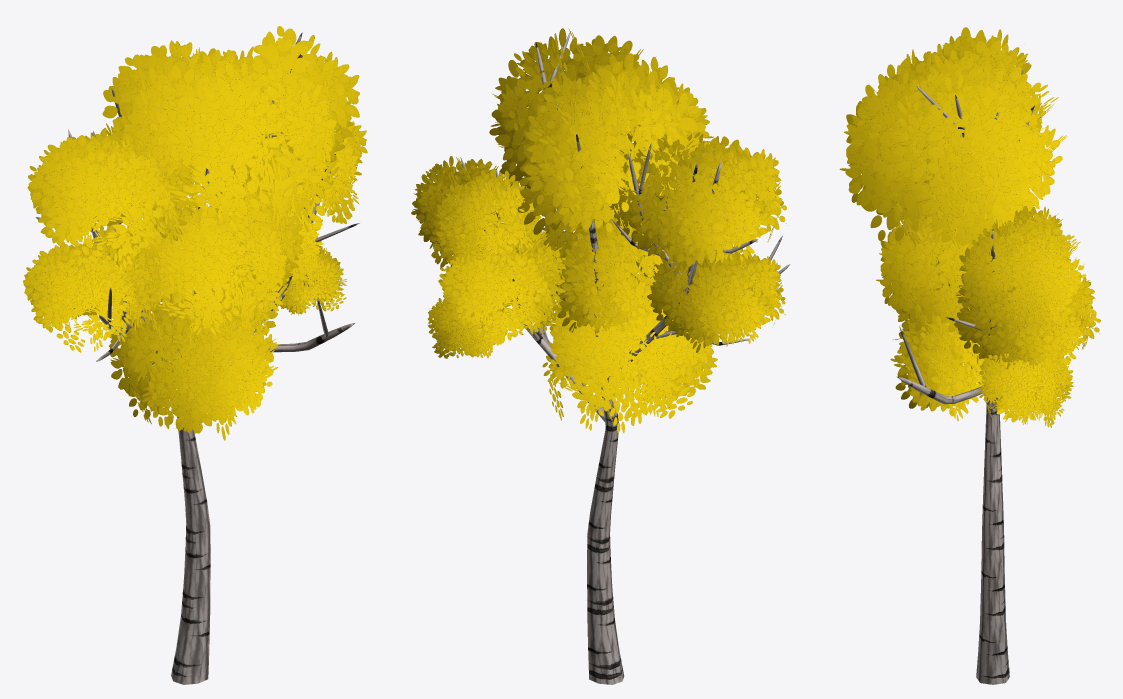
File: birch_tree_3.gltf
3 views of the same model, side by side, from view 1: azimuth 30°, elevation 25°; view 2: azimuth 150°, elevation 25°; view 3: azimuth 270°, elevation 25° (orthographic). The views are drawn at different scales.
Parts seen in each view (by area): view 1: BirchTree_3; view 2: BirchTree_3; view 3: BirchTree_3.
Part boxes in pixels (box(x1,y1,x2,y2)): BirchTree_3: box(23, 26, 367, 684); BirchTree_3: box(411, 28, 790, 684); BirchTree_3: box(839, 27, 1100, 684).
Bounding box in the file's own units: 3.43 × 5.75 × 2.27.
2 materials, 2 textured.
